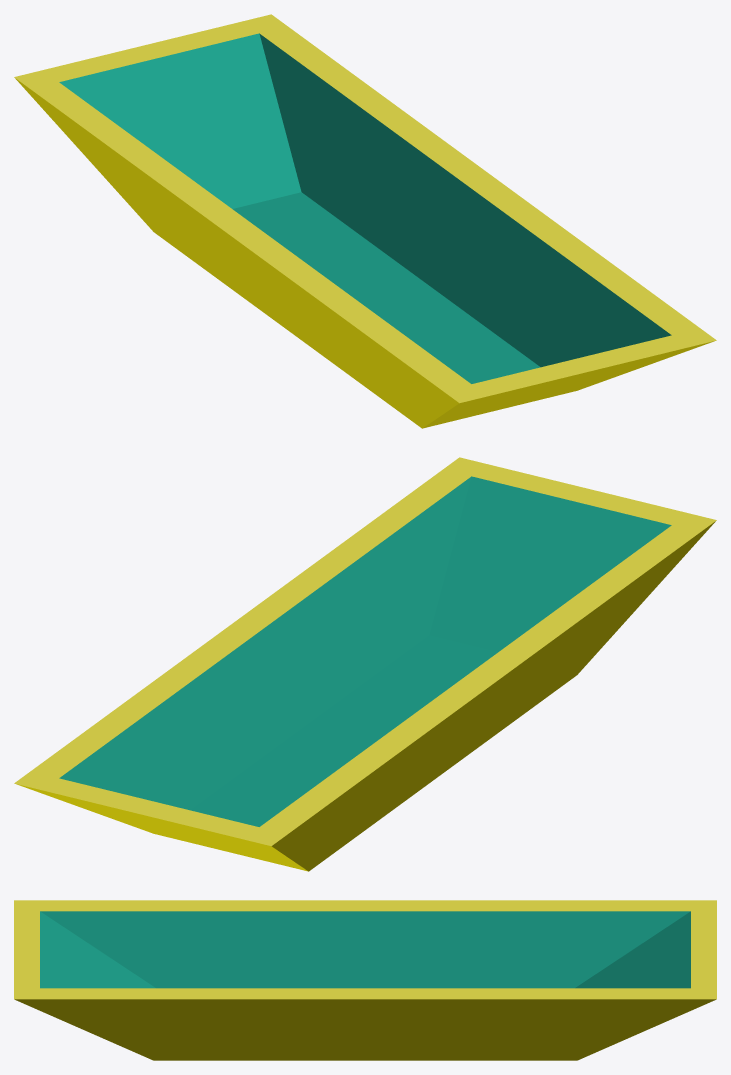
Rendered from SM_Dishes_6.fbx.
3 views of the same model, one above another, from view 1: azimuth 30°, elevation 25°; view 2: azimuth 150°, elevation 25°; view 3: azimuth 270°, elevation 25° (orthographic). The views are drawn at different scales.
Visible parts, largest first — view 1: SM_Dishes_6; view 2: SM_Dishes_6; view 3: SM_Dishes_6.
Boxes of the visible parts, left/top/right/bottom form: SM_Dishes_6: left=14, top=14, right=716, bottom=428; SM_Dishes_6: left=14, top=457, right=716, bottom=871; SM_Dishes_6: left=14, top=900, right=716, bottom=1060.
Size of the model in its own units: 11.55 by 34.62 by 4.4.
1 material, 1 textured.
